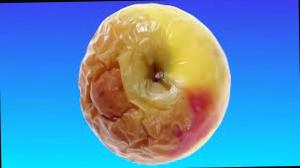Grape Rotten: (76, 1, 233, 166)
